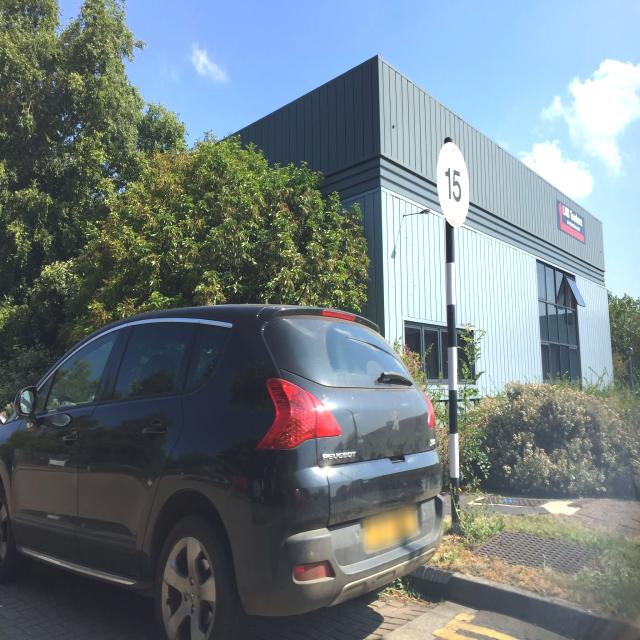car: (0, 303, 446, 640)
